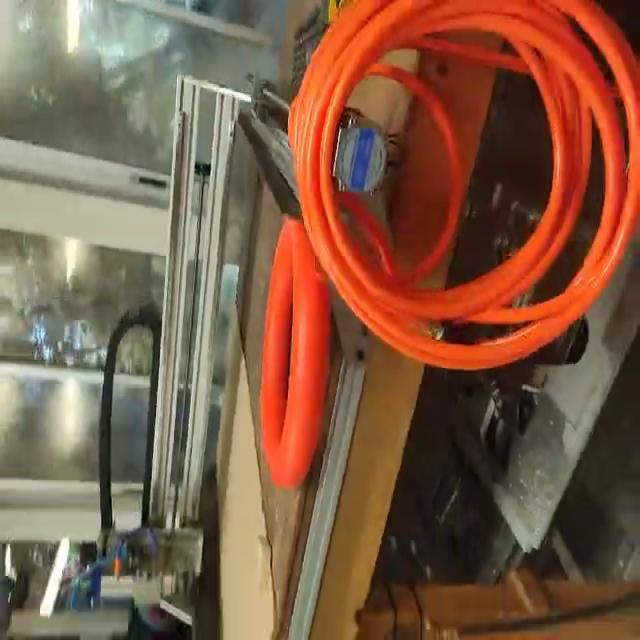note: (259, 220, 335, 493)
